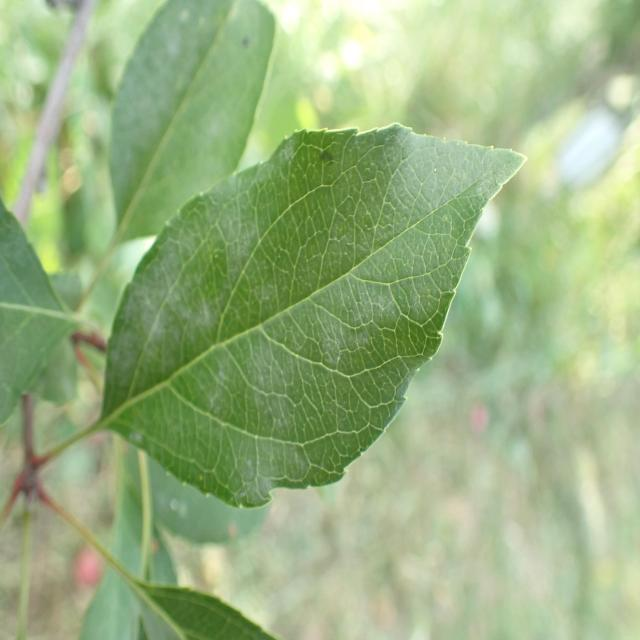Powdery_mildew: (113, 119, 513, 489)
